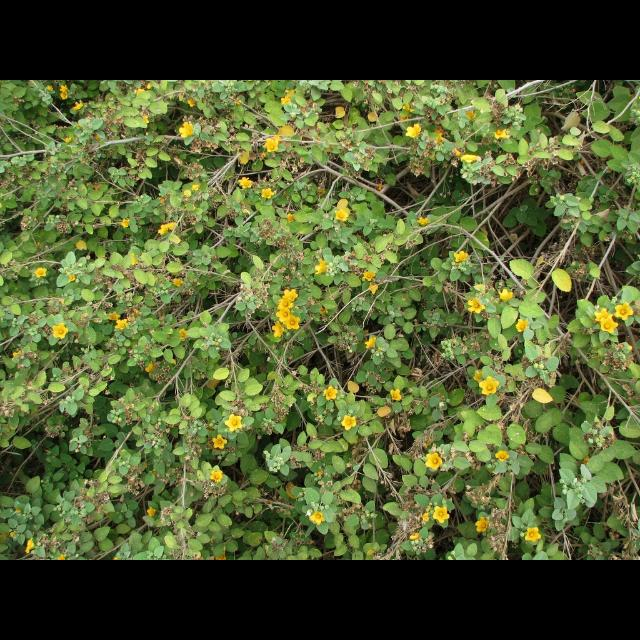Flower: (478, 375, 498, 395), (467, 293, 488, 311), (226, 412, 244, 432), (599, 316, 619, 332), (425, 454, 443, 471), (431, 506, 449, 522), (594, 307, 612, 323), (616, 302, 632, 320), (340, 414, 356, 430), (524, 526, 540, 542), (406, 121, 420, 139), (210, 435, 226, 449), (282, 289, 298, 303), (322, 387, 336, 403), (454, 248, 468, 264), (476, 516, 488, 534), (308, 511, 324, 524), (180, 122, 194, 136), (208, 468, 222, 482), (266, 138, 280, 152), (285, 316, 299, 330), (516, 318, 530, 332), (54, 323, 66, 339), (272, 323, 284, 339), (275, 310, 291, 322), (499, 287, 511, 303), (315, 259, 325, 277), (114, 317, 128, 329), (239, 177, 253, 189), (280, 91, 292, 105), (492, 128, 508, 138), (34, 266, 46, 278), (262, 186, 274, 198), (25, 539, 35, 553), (334, 210, 348, 220), (361, 270, 375, 280), (390, 388, 400, 402), (415, 215, 429, 225), (474, 368, 484, 382), (494, 450, 508, 460), (459, 155, 476, 163), (277, 300, 291, 308), (108, 312, 120, 321), (120, 218, 130, 228), (166, 221, 176, 231), (145, 359, 153, 371), (72, 102, 82, 111), (216, 552, 227, 560), (147, 506, 155, 516), (158, 224, 166, 234), (172, 279, 182, 287), (230, 98, 240, 106), (186, 99, 194, 108), (59, 93, 67, 101), (42, 84, 52, 90), (68, 271, 74, 281), (134, 88, 144, 94), (11, 101, 19, 107), (142, 116, 148, 124), (146, 81, 152, 89), (58, 553, 64, 559), (61, 85, 67, 91), (18, 96, 22, 102)
